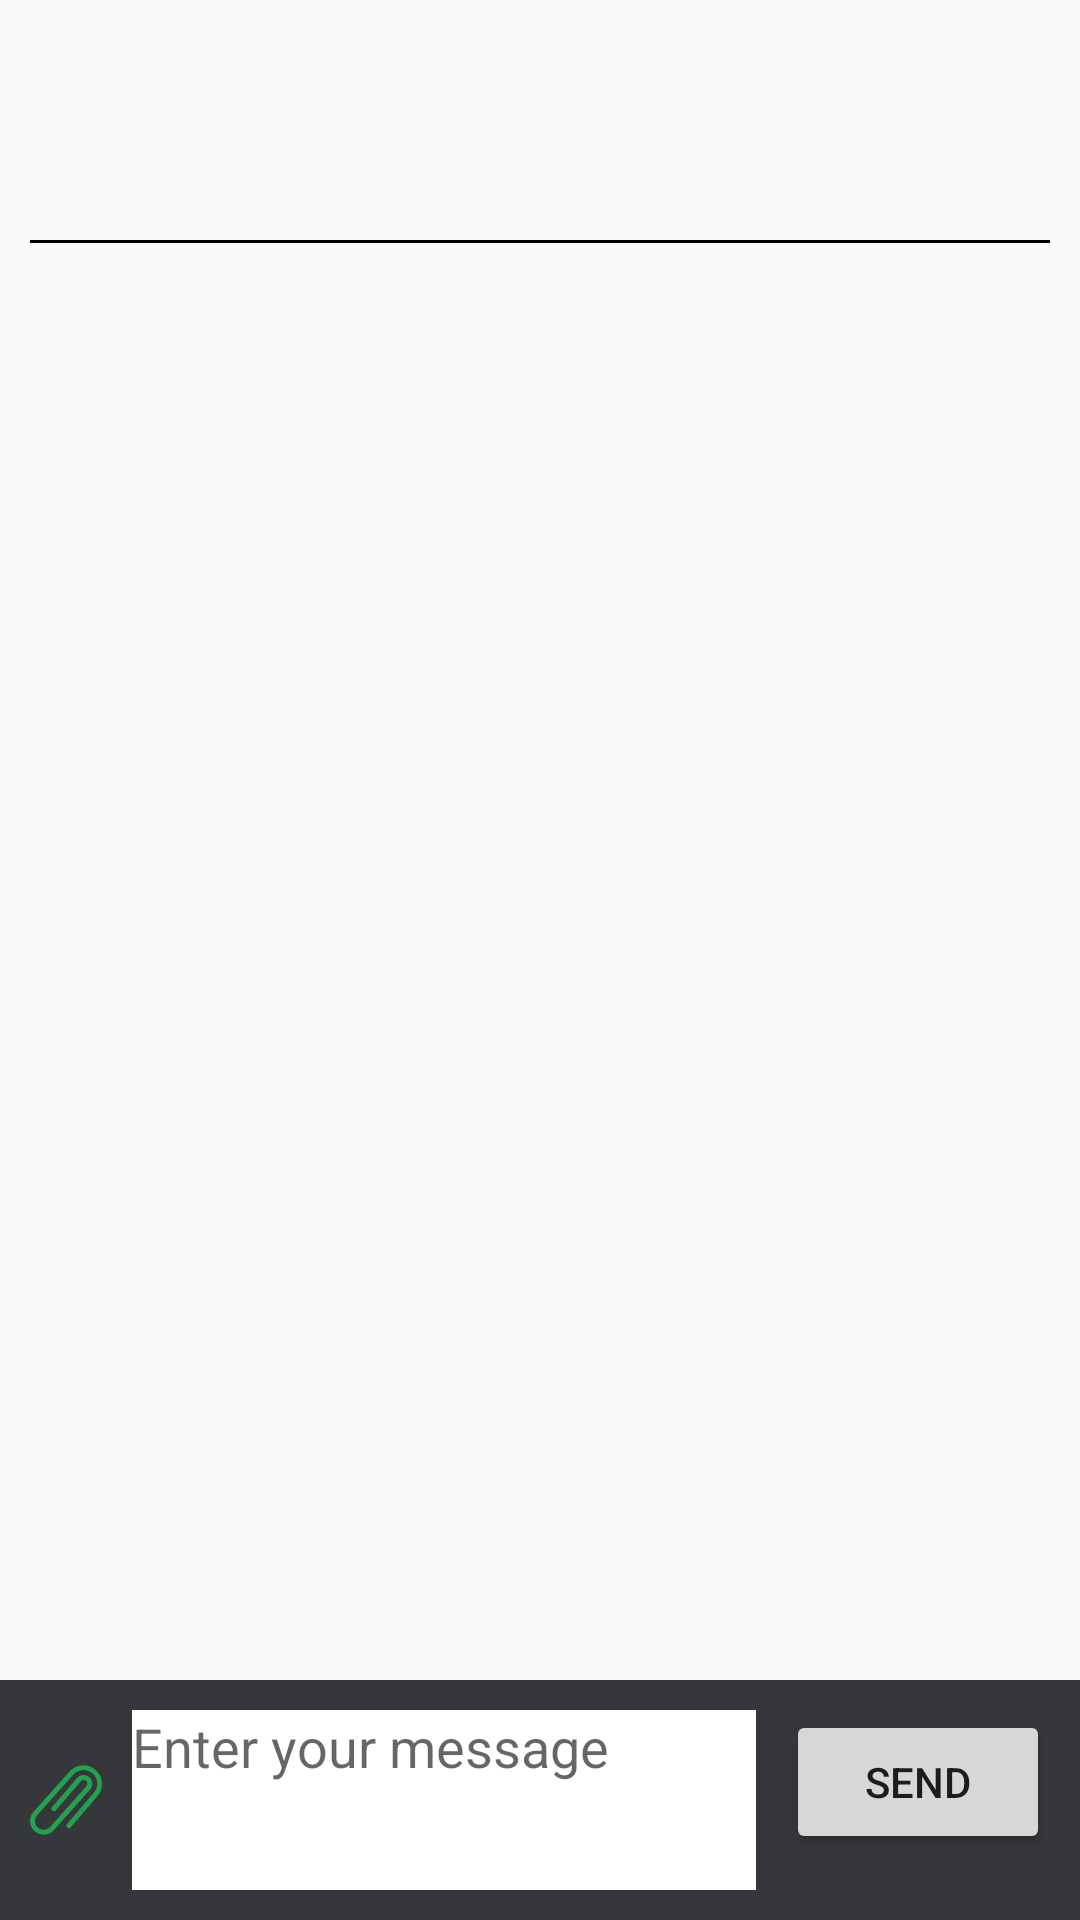

Where icons sit on this 1080px x 1920px app screen, as (x1,y1,x2,y2):
attach clip: (30,1765,102,1835)
